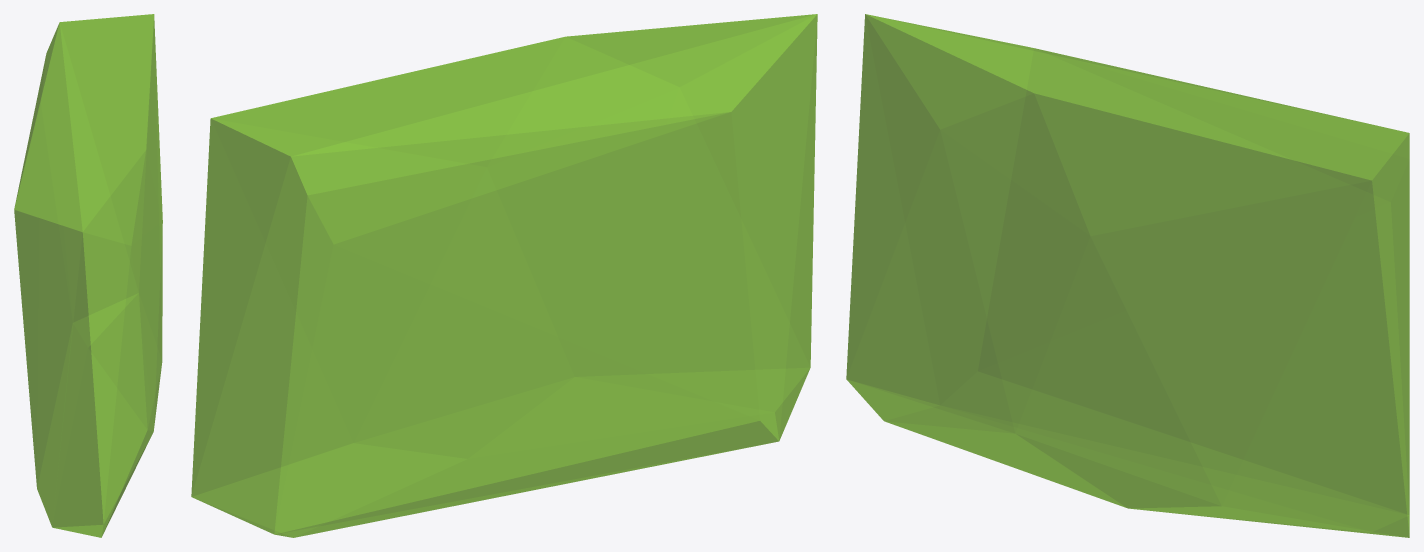
The picture shows the model from 3 angles, left to right: view 1: azimuth 30°, elevation 25°; view 2: azimuth 150°, elevation 25°; view 3: azimuth 270°, elevation 25°; orthographic projection. The views are drawn at different scales.
Parts seen in each view (by area): view 1: Shape_IndexedFaceSet.054_Shape_IndexedFaceSet.10764; view 2: Shape_IndexedFaceSet.054_Shape_IndexedFaceSet.10764; view 3: Shape_IndexedFaceSet.054_Shape_IndexedFaceSet.10764.
Part boxes in pixels (<box>): Shape_IndexedFaceSet.054_Shape_IndexedFaceSet.10764: <box>14,14,162,537</box>; Shape_IndexedFaceSet.054_Shape_IndexedFaceSet.10764: <box>191,14,817,537</box>; Shape_IndexedFaceSet.054_Shape_IndexedFaceSet.10764: <box>846,14,1409,537</box>.
Size of the model in its own units: 0.0693 by 0.076 by 0.0991.
